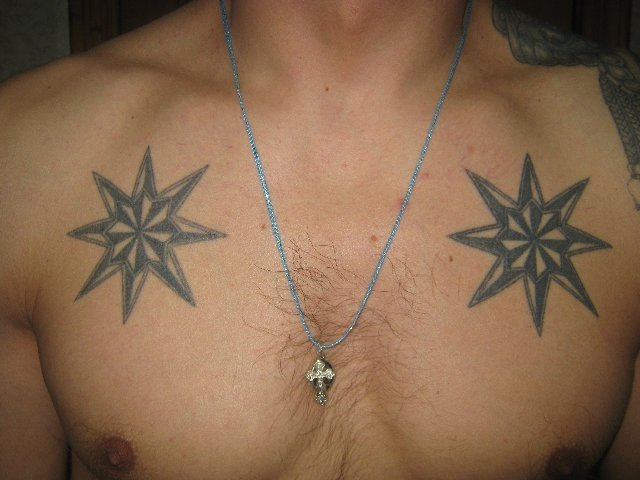tatu4_zvezda: (445, 151, 615, 336), (68, 145, 230, 326)
